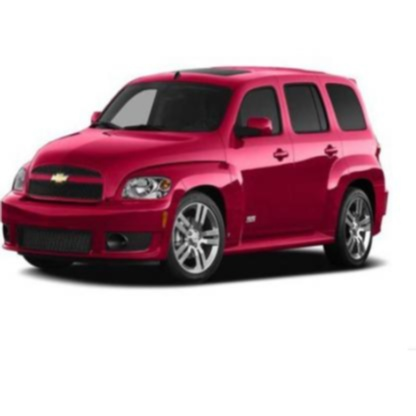Vehicle: (1, 65, 394, 290)
